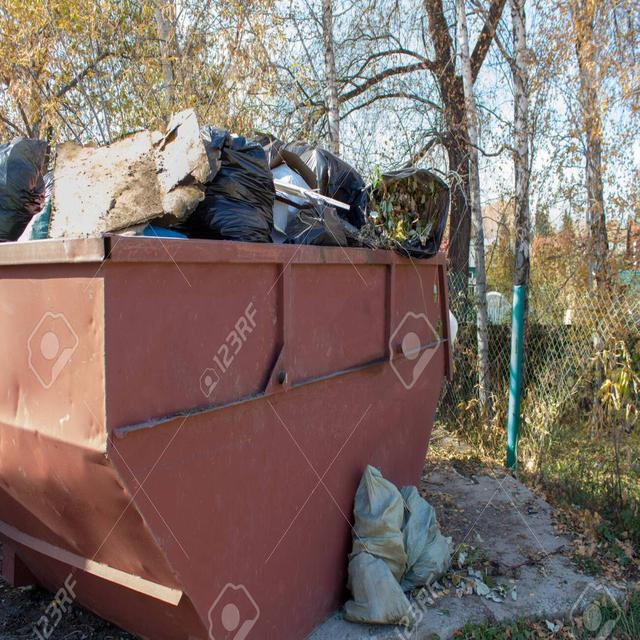garbage: (0, 101, 470, 262), (332, 447, 453, 637)
